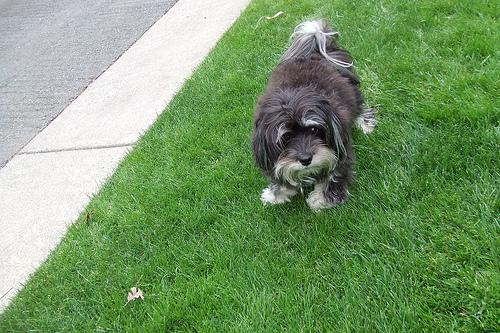dog-havanese: (251, 91, 346, 178)
